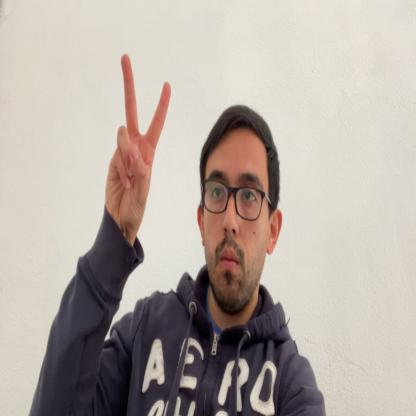V: (105, 53, 173, 243)
